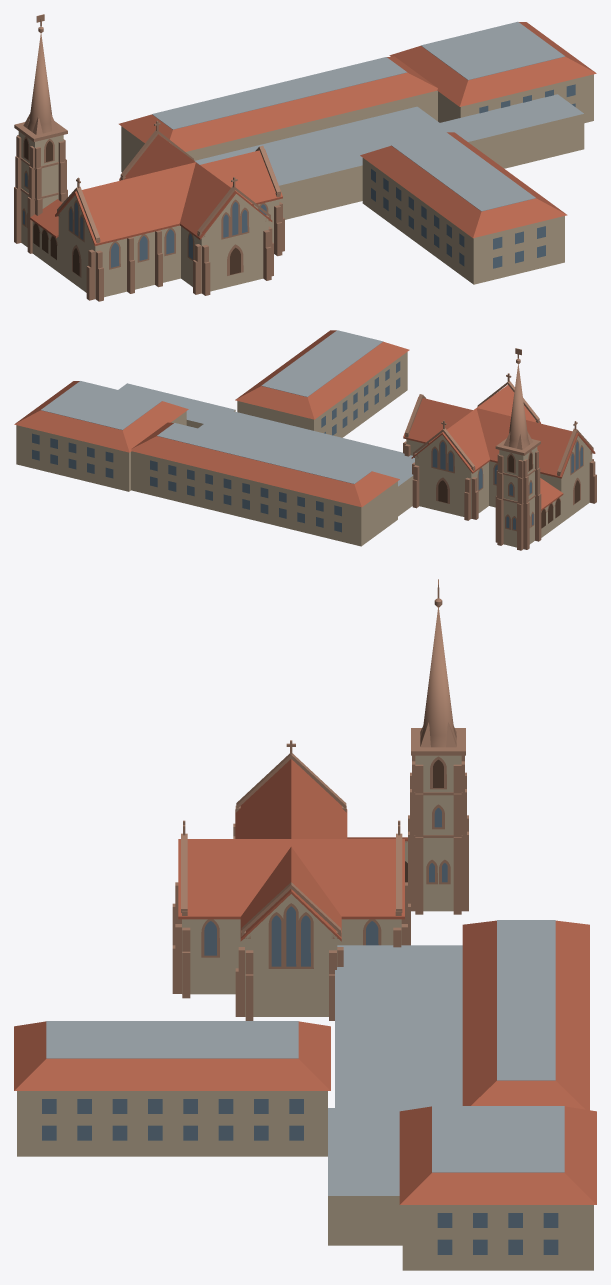
File: ral-christ-church.glb
3 renders of one model, top to bottom at view 1: azimuth 30°, elevation 25°; view 2: azimuth 150°, elevation 25°; view 3: azimuth 270°, elevation 25°, orthographic. The views are drawn at different scales.
Parts seen in each view (by area): view 1: Christ Episcopal Church; view 2: Christ Episcopal Church; view 3: Christ Episcopal Church.
Boxes of the visible parts, <box> form: Christ Episcopal Church: <box>14,14,596,301</box>; Christ Episcopal Church: <box>14,330,596,550</box>; Christ Episcopal Church: <box>14,579,596,1270</box>.
Size of the model in its own units: 92.95 by 35.9 by 59.4.
